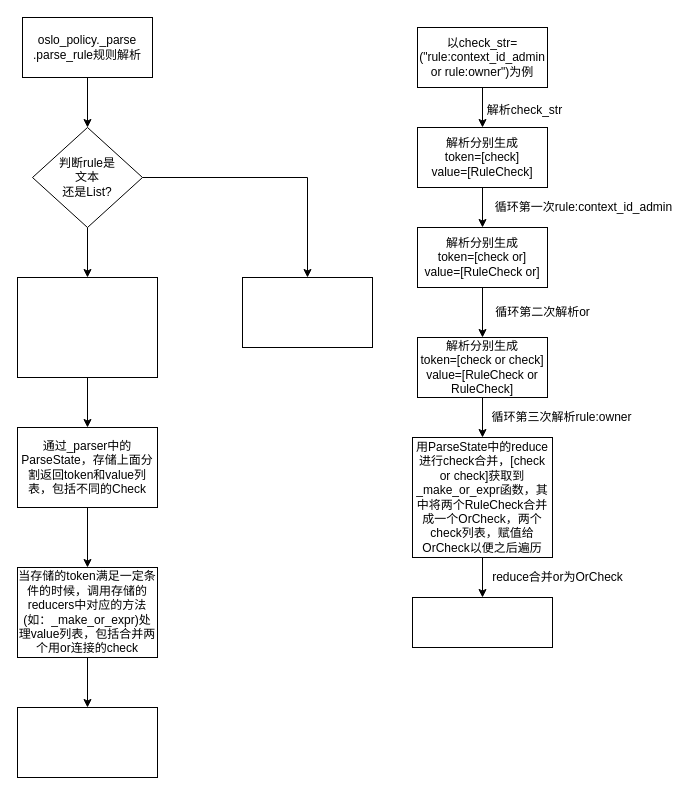
Some shapes in this 698 by 795 pixel diagram are drawn without their labels. The shapes that lost their labels are listed below. From the top down, each one's centre as x and y in pixels, then its label:
the point at 87,327: 如果是文本，那么会调用_parse_tokenize，根据正则表达式分割字符串到列表，根据每一项返回string, check或or and not生成器。
the point at 307,312: list的rule解析也一样，会遍历rule中的list
the point at 482,622: 返回合并后的OrCheck给Rule的check属性
the point at 87,742: 将值赋给Rule中对应的check，以便在authorize的时候迭代认证
